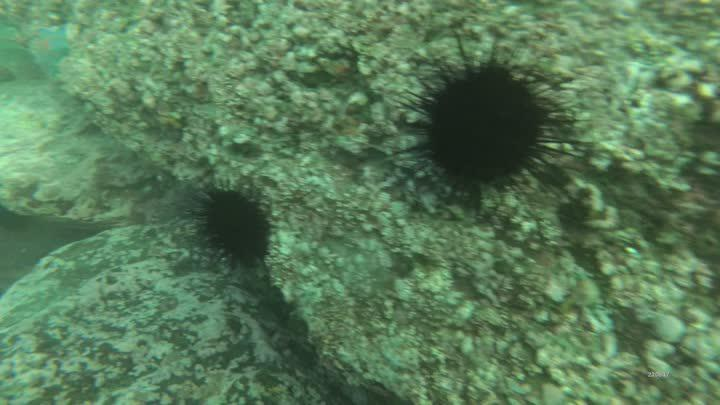urchin: (386, 38, 575, 207), (194, 179, 279, 270)
